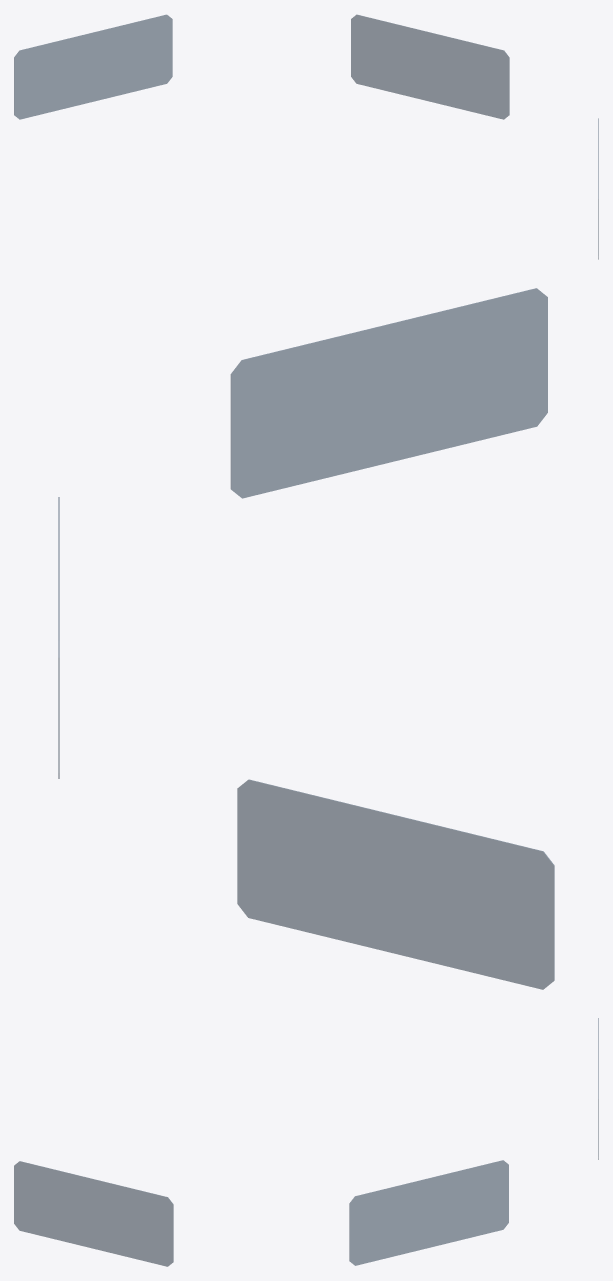
File: SPACESHIP_ALL3_UVdone.gltf
The picture shows the model from 3 angles, top to bottom: view 1: azimuth 30°, elevation 25°; view 2: azimuth 150°, elevation 25°; view 3: azimuth 270°, elevation 25°; orthographic projection. The views are drawn at different scales.
Parts seen in each view (by area): view 1: Object048, Object047; view 2: Object047, SHIP_WINDOW; view 3: Object048, SHIP_WINDOW.
Part boxes in pixels (x1,y1,x2,y2): Object048: [351, 14, 509, 119]; Object047: [14, 14, 172, 119]; Object047: [237, 779, 554, 989]; SHIP_WINDOW: [230, 288, 547, 498]; Object048: [349, 1160, 508, 1265]; SHIP_WINDOW: [14, 1161, 173, 1266].
Size of the model in its own units: 1414 by 251 by 1908.
Materials: 1 (1 with a texture image).
